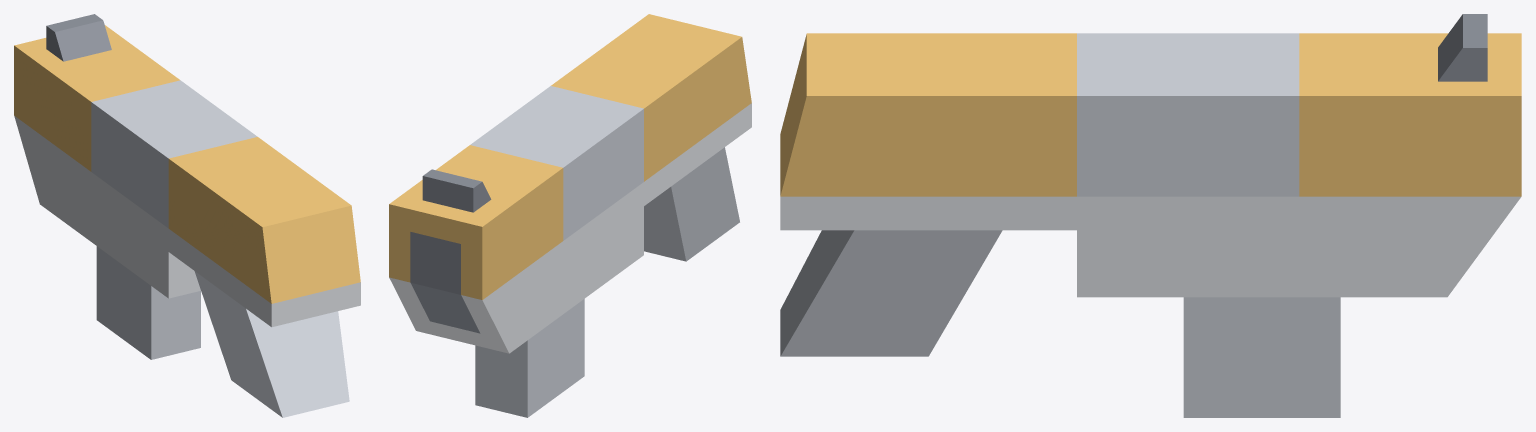
The model's file is weapon_rifle.glb.
The picture shows the model from 3 angles, left to right: view 1: azimuth 30°, elevation 25°; view 2: azimuth 150°, elevation 25°; view 3: azimuth 270°, elevation 25°; orthographic projection. The views are drawn at different scales.
Parts seen in each view (by area): view 1: weapon_rifle; view 2: weapon_rifle; view 3: weapon_rifle.
Part boxes in pixels (box(x1,y1,x2,y2)): weapon_rifle: box(14, 14, 360, 417); weapon_rifle: box(389, 14, 751, 417); weapon_rifle: box(780, 14, 1521, 417).
Bounding box in the file's own units: 0.13 × 0.3575 × 0.65.
